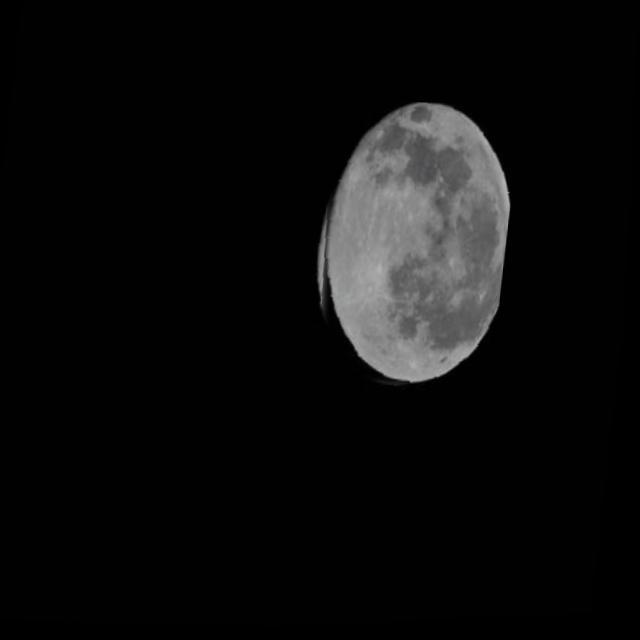moon: (303, 96, 523, 404)
